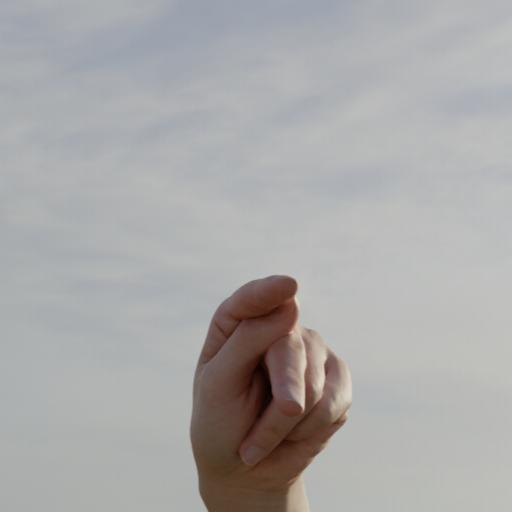P: (187, 268, 360, 512)
